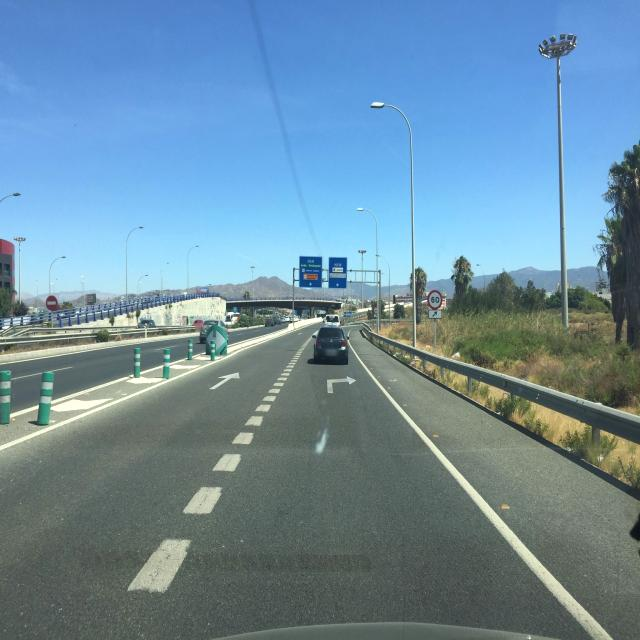car: (312, 326, 350, 366), (137, 318, 156, 329)
